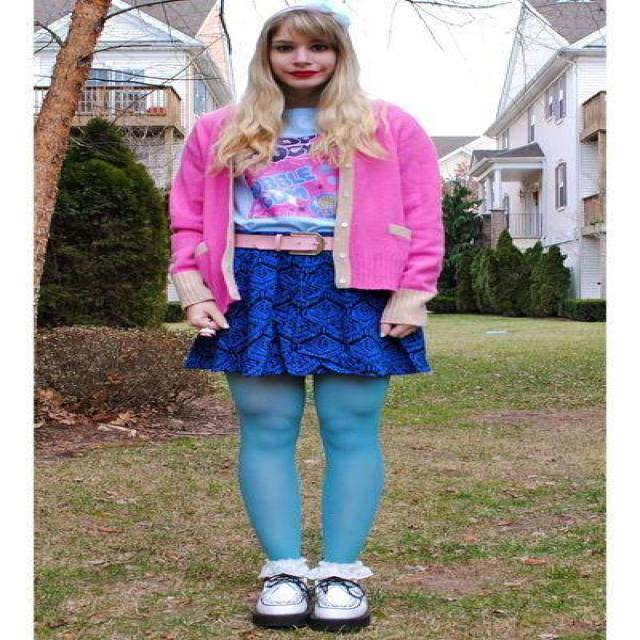jacket: (160, 104, 443, 333)
pants: (230, 371, 386, 569)
shirt: (228, 106, 354, 236)
shoe: (250, 582, 366, 632)
skirt: (211, 246, 429, 602)
